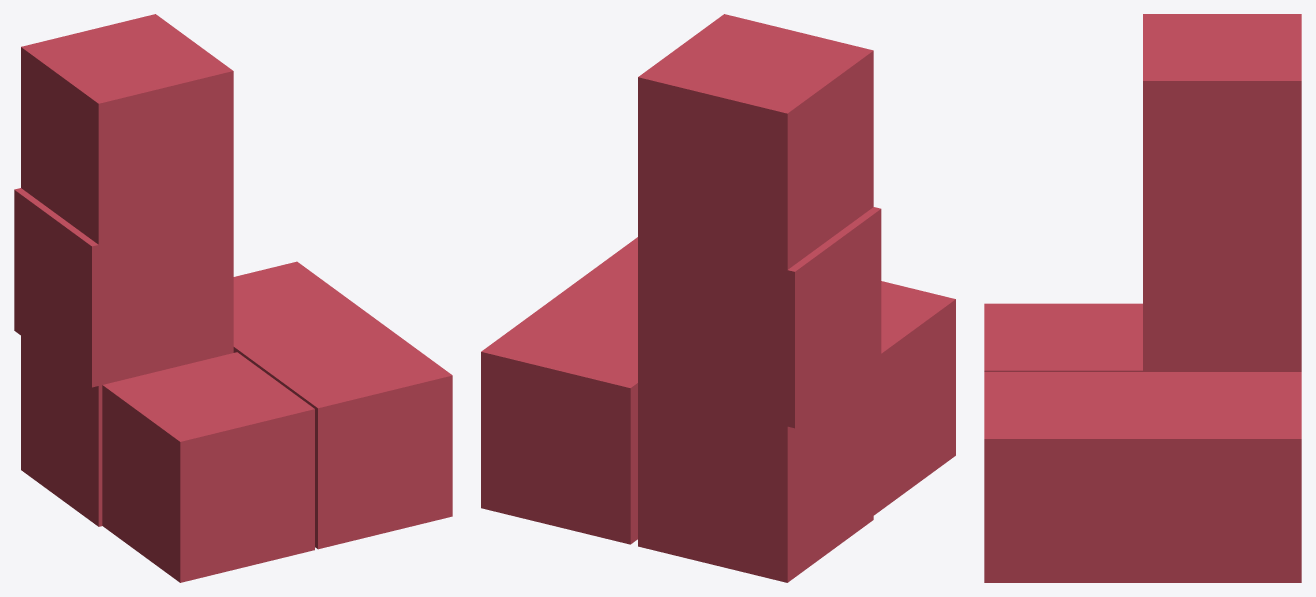
Rendered from blokken2.gltf.
3 renders of one model, left to right at view 1: azimuth 30°, elevation 25°; view 2: azimuth 150°, elevation 25°; view 3: azimuth 270°, elevation 25°, orthographic. The views are drawn at different scales.
Parts seen in each view (by area): view 1: Mesh_Mesh_head_geo.001_lambert2SG.001; view 2: Mesh_Mesh_head_geo.001_lambert2SG.001; view 3: Mesh_Mesh_head_geo.001_lambert2SG.001.
Boxes of the visible parts, x1,y1,x2,y2 form: Mesh_Mesh_head_geo.001_lambert2SG.001: (14, 14, 452, 582); Mesh_Mesh_head_geo.001_lambert2SG.001: (481, 14, 955, 582); Mesh_Mesh_head_geo.001_lambert2SG.001: (984, 14, 1301, 582).
Size of the model in its own units: 0.042 by 0.06 by 0.04.
